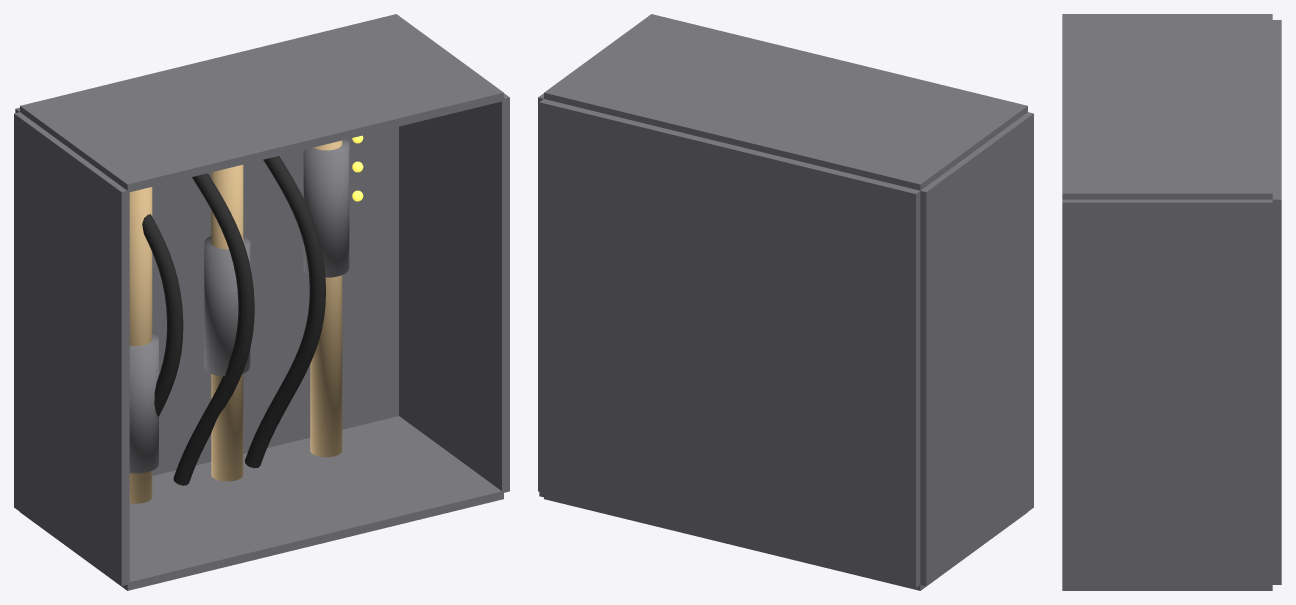
The model's file is hatch.glb.
3 views of the same model, side by side, from view 1: azimuth 30°, elevation 25°; view 2: azimuth 150°, elevation 25°; view 3: azimuth 270°, elevation 25° (orthographic). The views are drawn at different scales.
Parts seen in each view (by area): view 1: side1, side2, back, side0, side3, cable2, cable1, piston2, sleeve2, piston1, sleeve1, piston0 (+2 smaller); view 2: back, side1, side2, side3, side0; view 3: side0, side2, back, side3.
Boxes of the visible parts, x1=… form: side1: x1=14, y1=112, x2=129, y2=585; side2: x1=20, y1=14, x2=503, y2=191; back: x1=15, y1=107, x2=398, y2=475; side0: x1=399, y1=93, x2=509, y2=493; side3: x1=20, y1=416, x2=503, y2=590; cable2: x1=244, y1=156, x2=325, y2=468; cable1: x1=173, y1=173, x2=254, y2=485; piston2: x1=310, y1=140, x2=342, y2=457; sleeve2: x1=303, y1=139, x2=349, y2=277; piston1: x1=211, y1=164, x2=243, y2=481; sleeve1: x1=204, y1=236, x2=250, y2=376; piston0: x1=129, y1=187, x2=152, y2=503; back: x1=539, y1=99, x2=920, y2=587; side1: x1=920, y1=112, x2=1033, y2=585; side2: x1=544, y1=14, x2=1027, y2=190; side3: x1=544, y1=497, x2=1027, y2=590; side0: x1=538, y1=93, x2=543, y2=491; side0: x1=1062, y1=199, x2=1272, y2=587; side2: x1=1062, y1=14, x2=1272, y2=199; back: x1=1272, y1=20, x2=1281, y2=584; side3: x1=1062, y1=587, x2=1272, y2=590.
Size of the model in its own units: 0.98 by 0.98 by 0.49.
